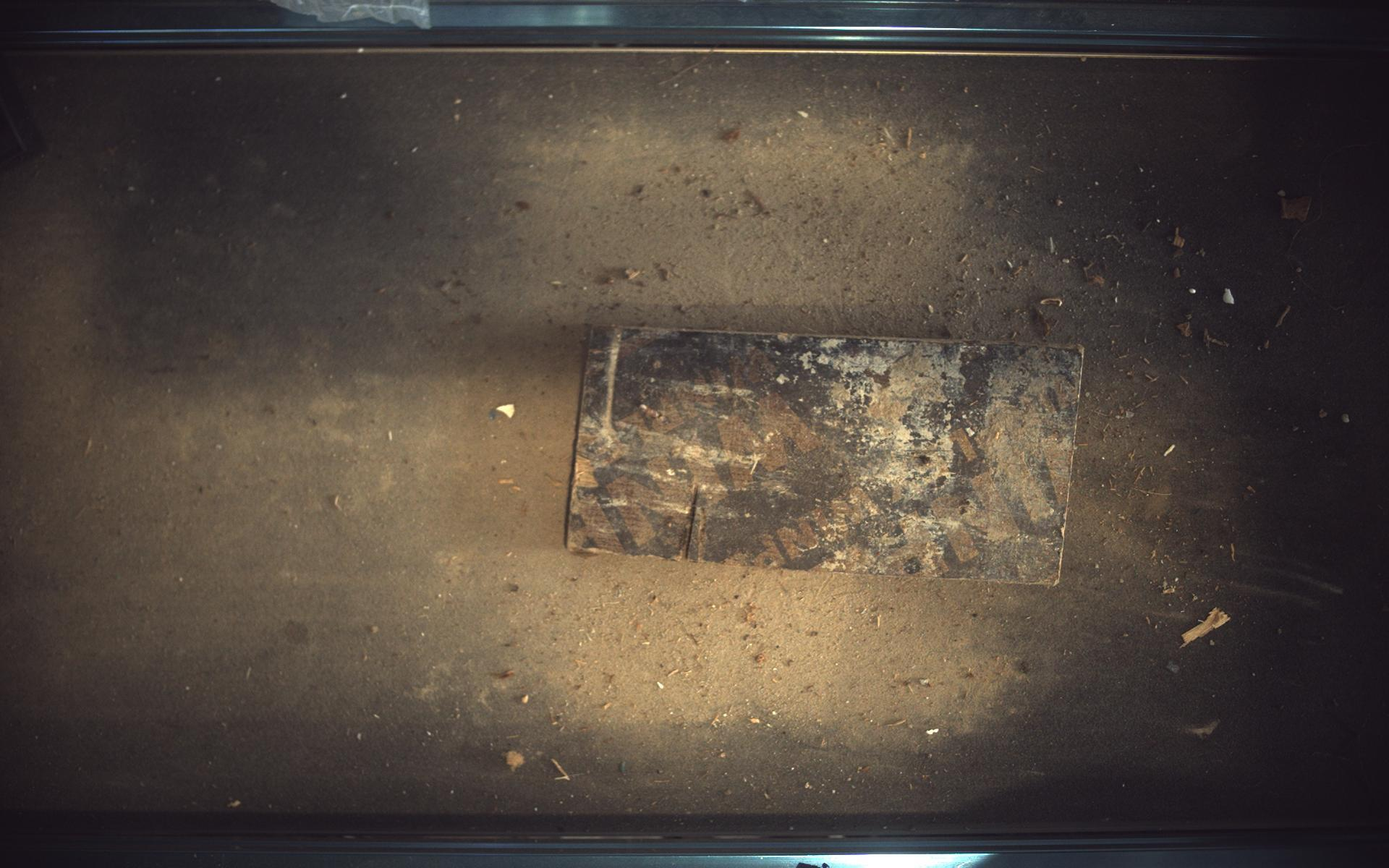wood: (567, 328, 1085, 586)
